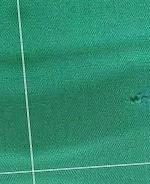knot: (125, 90, 148, 110)
